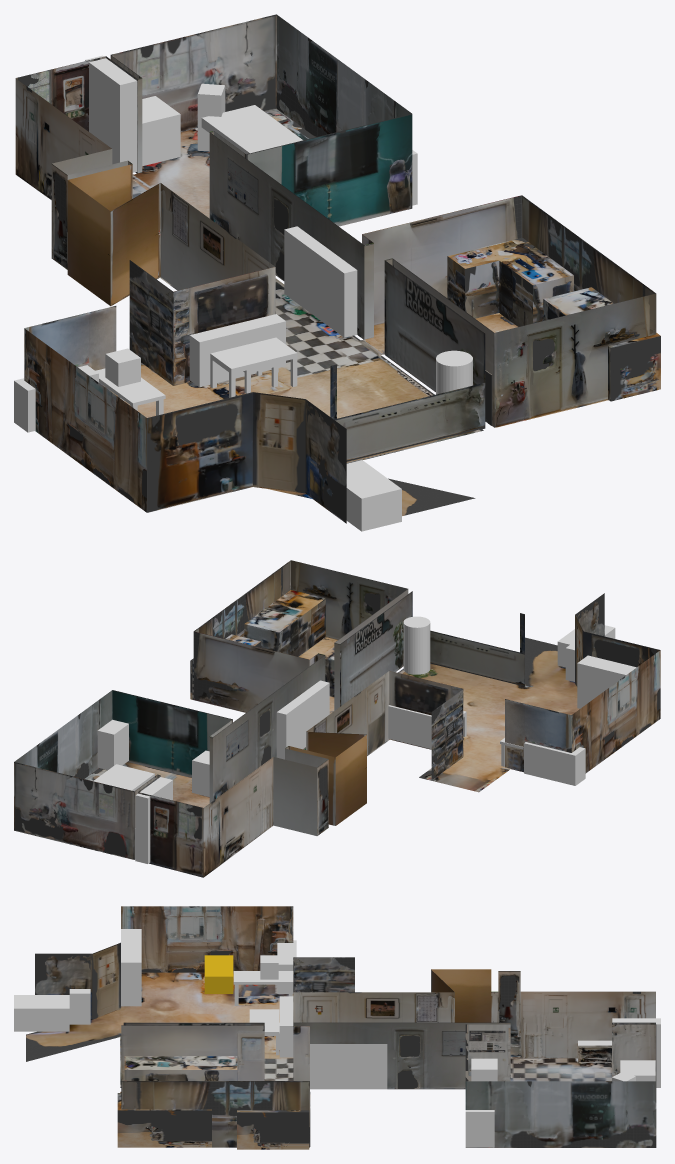
File: office.dae
3 views of the same model, one above another, from view 1: azimuth 30°, elevation 25°; view 2: azimuth 150°, elevation 25°; view 3: azimuth 270°, elevation 25° (orthographic). The views are drawn at different scales.
Parts seen in each view (by area): view 1: Walls, floor, workspace_L, recycling, workspace_single, clothes_shoerack, speakers, sofa, table_low_res, big_table, streetsweeper, plant (+4 smaller); view 2: Walls, floor, workspace_single, recycling, storage, storage.001, clothes_shoerack, plant, speakers, pilot_robot, table_low_res, mini_fridge (+1 smaller); view 3: Walls, floor, workspace_single, recycling, workspace_L, workspace_double, sofa, storage.001, flivab?, pilot_robot, speakers, table (+8 smaller).
Part boxes in pixels (x1,y1,x2,y2): Walls: (15, 14, 656, 523); floor: (39, 108, 608, 515); workspace_L: (447, 237, 573, 326); recycling: (284, 226, 357, 337); workspace_single: (543, 287, 660, 401); clothes_shoerack: (85, 55, 137, 172); speakers: (189, 314, 285, 387); sofa: (346, 460, 401, 531); table_low_res: (201, 105, 302, 154); big_table: (210, 337, 297, 397); streetsweeper: (142, 96, 180, 165); plant: (436, 350, 472, 394); Walls: (14, 560, 660, 877); floor: (84, 637, 646, 835); workspace_single: (244, 590, 325, 656); recycling: (276, 680, 329, 759); storage: (524, 742, 585, 785); storage.001: (577, 655, 636, 708); clothes_shoerack: (135, 777, 172, 863); plant: (403, 616, 430, 674); speakers: (388, 705, 431, 748); pilot_robot: (97, 719, 128, 769); table_low_res: (93, 764, 154, 791); mini_fridge: (192, 750, 209, 796); Walls: (35, 906, 656, 1147); floor: (26, 972, 611, 1146); workspace_single: (117, 1093, 211, 1147); recycling: (310, 1044, 387, 1089); workspace_L: (237, 1110, 309, 1149); workspace_double: (124, 1056, 237, 1080); sofa: (14, 995, 69, 1031); storage.001: (121, 929, 141, 1006); flivab?: (204, 955, 233, 993); pilot_robot: (465, 1110, 494, 1147); speakers: (279, 996, 293, 1057); table: (233, 971, 293, 1005).
Bounding box in the file's own units: 24.23 × 36.9 × 4.5.
18 materials, 16 textured.
